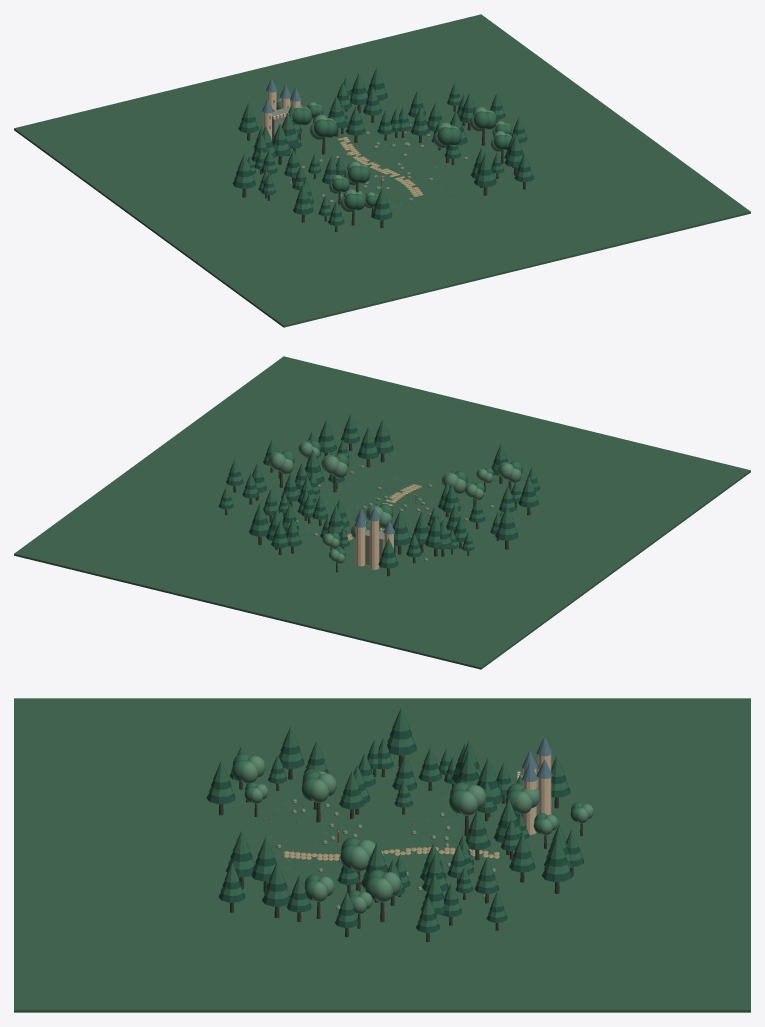
File: forest-aHcdACvc.glb
3 views of the same model, one above another, from view 1: azimuth 30°, elevation 25°; view 2: azimuth 150°, elevation 25°; view 3: azimuth 270°, elevation 25° (orthographic). The views are drawn at different scales.
Visible parts, largest first — view 1: Forest_ground, Forest_leaf, Forest_darkleaf, Forest_lightleaf, Forest_bark, Forest_path, Forest_stone, Forest_cream; view 2: Forest_ground, Forest_leaf, Forest_darkleaf, Forest_lightleaf, Forest_bark, Forest_cream, Forest_stone; view 3: Forest_ground, Forest_leaf, Forest_darkleaf, Forest_lightleaf, Forest_bark, Forest_cream, Forest_path, Forest_blue.
Boxes of the visible parts, x1,y1,x2,y2 form: Forest_ground: [14, 14, 750, 327]; Forest_leaf: [234, 67, 532, 221]; Forest_darkleaf: [232, 82, 533, 225]; Forest_lightleaf: [276, 98, 511, 216]; Forest_bark: [242, 105, 525, 232]; Forest_path: [337, 137, 423, 196]; Forest_stone: [272, 107, 468, 202]; Forest_cream: [263, 91, 300, 140]; Forest_ground: [14, 356, 750, 669]; Forest_leaf: [219, 414, 538, 563]; Forest_darkleaf: [218, 427, 539, 568]; Forest_lightleaf: [268, 441, 521, 563]; Forest_bark: [225, 443, 530, 576]; Forest_cream: [355, 520, 393, 569]; Forest_stone: [296, 465, 493, 568]; Forest_ground: [14, 698, 750, 1012]; Forest_leaf: [208, 707, 583, 926]; Forest_darkleaf: [206, 729, 583, 932]; Forest_lightleaf: [240, 755, 593, 913]; Forest_bark: [219, 755, 583, 941]; Forest_cream: [474, 755, 551, 865]; Forest_path: [284, 830, 499, 860]; Forest_blue: [522, 736, 552, 781].
Size of the model in its own units: 100 by 12.93 by 100.
